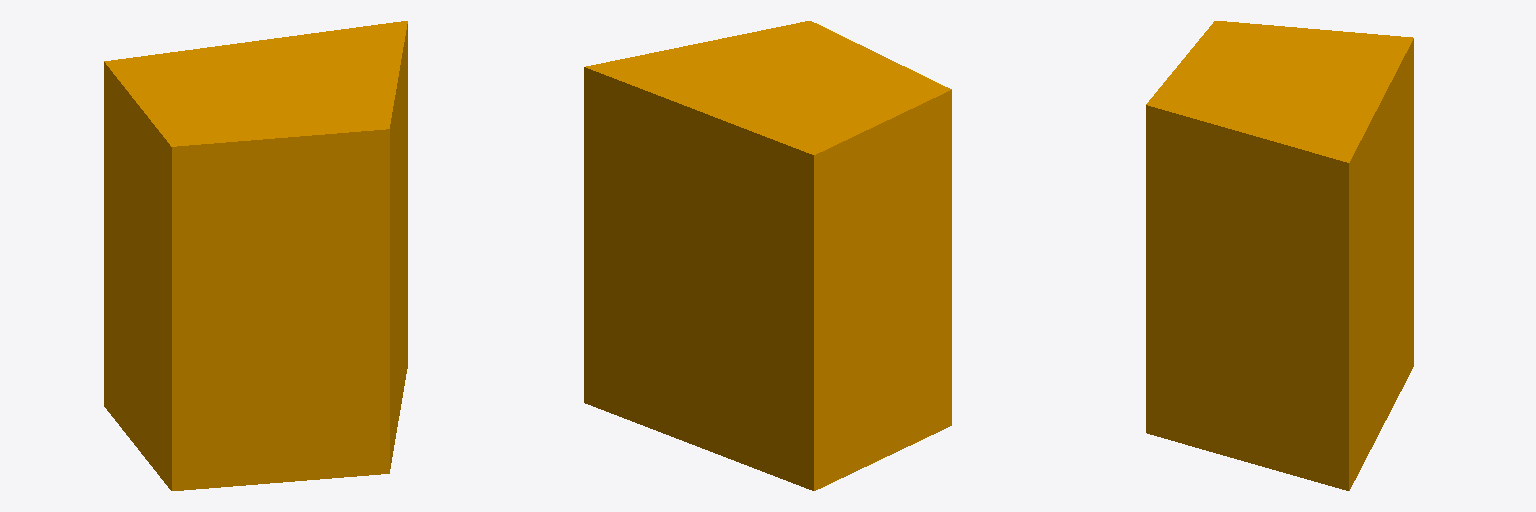
The robot description file, URDF, robot "object":
<?xml version="1.0"?>
<robot name="object">
  <link name="object">
    <visual>
      <origin xyz="0 0 0"/>
      <geometry>
        <mesh filename="meshes/generated/col_110.obj" scale="0.03 0.03 0.03"/>
      </geometry>
    </visual>
    <collision>
      <origin xyz="0 0 0"/>
      <geometry>
        <mesh filename="meshes/generated/col_110.obj" scale="0.03 0.03 0.03"/>
      </geometry>
    </collision>
    <inertial>
      <density value="1000.0"/>
    </inertial>
  </link>
</robot>

--- What the picture shows (computed from the rendered views, not written in the file) ---
3 views of the same robot in one strip: view 1: azimuth 30°, elevation 25°; view 2: azimuth 150°, elevation 25°; view 3: azimuth 270°, elevation 25° (orthographic).
Model object with 1 links and 0 joints (none), rooted at object, posed every joint at zero.
Visible links, largest first — view 1: object; view 2: object; view 3: object.
Link boxes in pixels (x1,y1,x2,y2): object: (104,21,407,490); object: (584,21,951,490); object: (1146,21,1413,490).
Size in the robot's own frame: 0.0559 by 0.0445 by 0.06 metres.
1 mesh visuals loaded from 1 distinct referenced files (1 OBJ).
